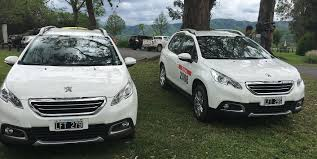car: (2, 27, 138, 142), (159, 28, 304, 122), (128, 34, 151, 53), (143, 36, 172, 51)
